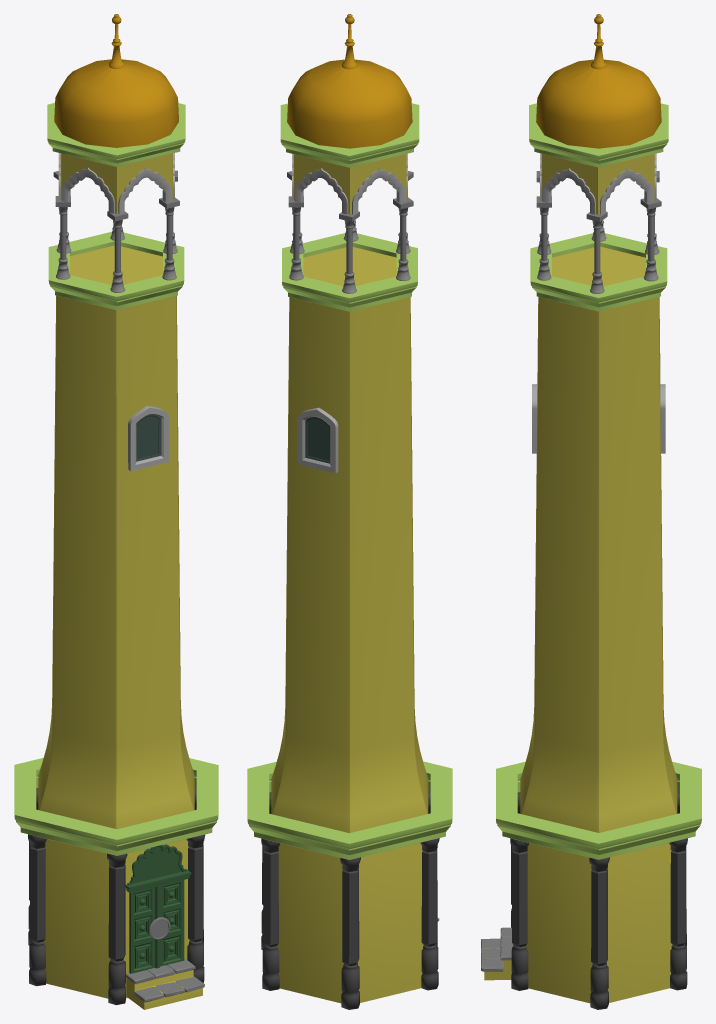
Rendered from SM_tower_india_01.fbx.
The picture shows the model from 3 angles, left to right: view 1: azimuth 30°, elevation 25°; view 2: azimuth 150°, elevation 25°; view 3: azimuth 270°, elevation 25°; orthographic projection.
Parts seen in each view (by area): view 1: Object32675; view 2: Object32675; view 3: Object32675.
Part boxes in pixels (x1=…): Object32675: x1=14, y1=14, x2=218, y2=1009; Object32675: x1=247, y1=14, x2=452, y2=1009; Object32675: x1=481, y1=14, x2=701, y2=1009.
Size of the model in its own units: 223 by 989 by 208.
